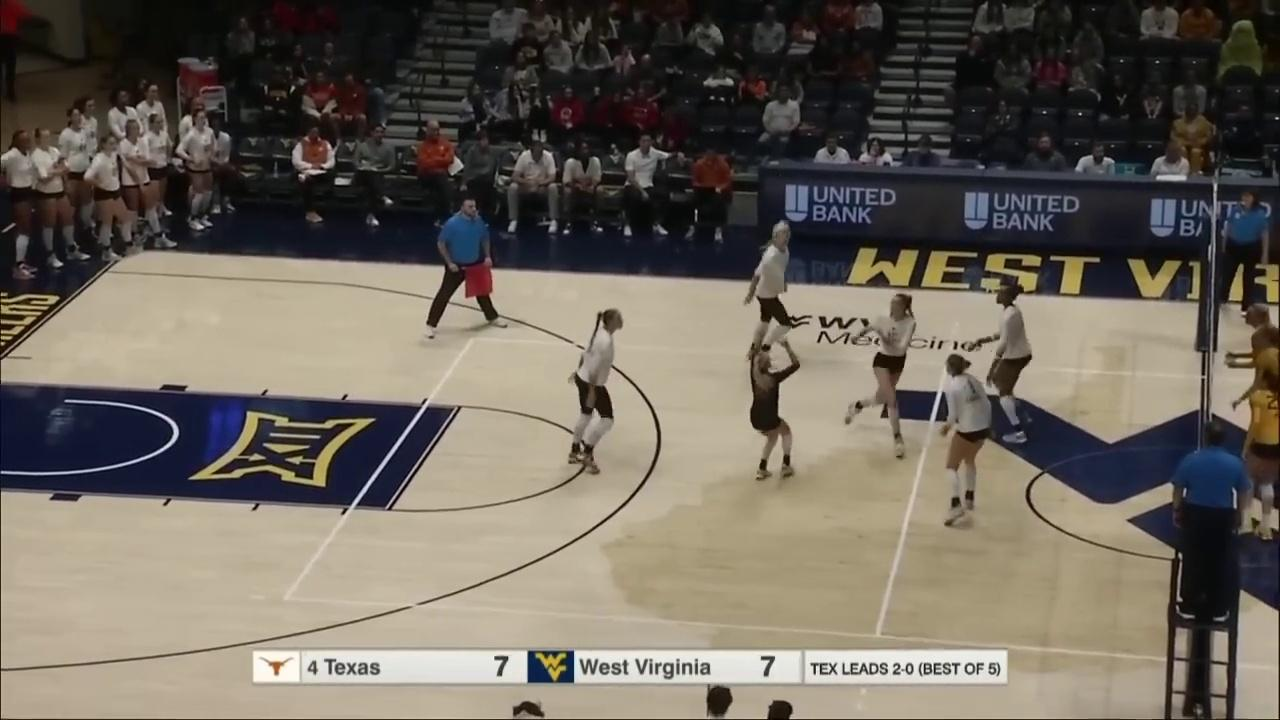player: (927, 355, 997, 532), (855, 291, 922, 457), (979, 283, 1042, 444), (565, 307, 624, 476), (737, 333, 803, 482), (742, 213, 799, 377), (1235, 366, 1279, 543), (1240, 297, 1280, 476), (1242, 325, 1280, 496)
refree: (1171, 412, 1245, 621), (423, 194, 514, 340), (1211, 185, 1271, 321)
